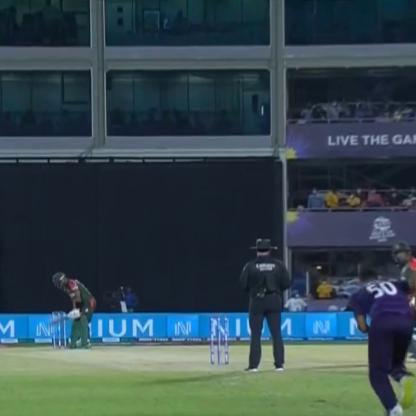pitch: (3, 322, 360, 390)
